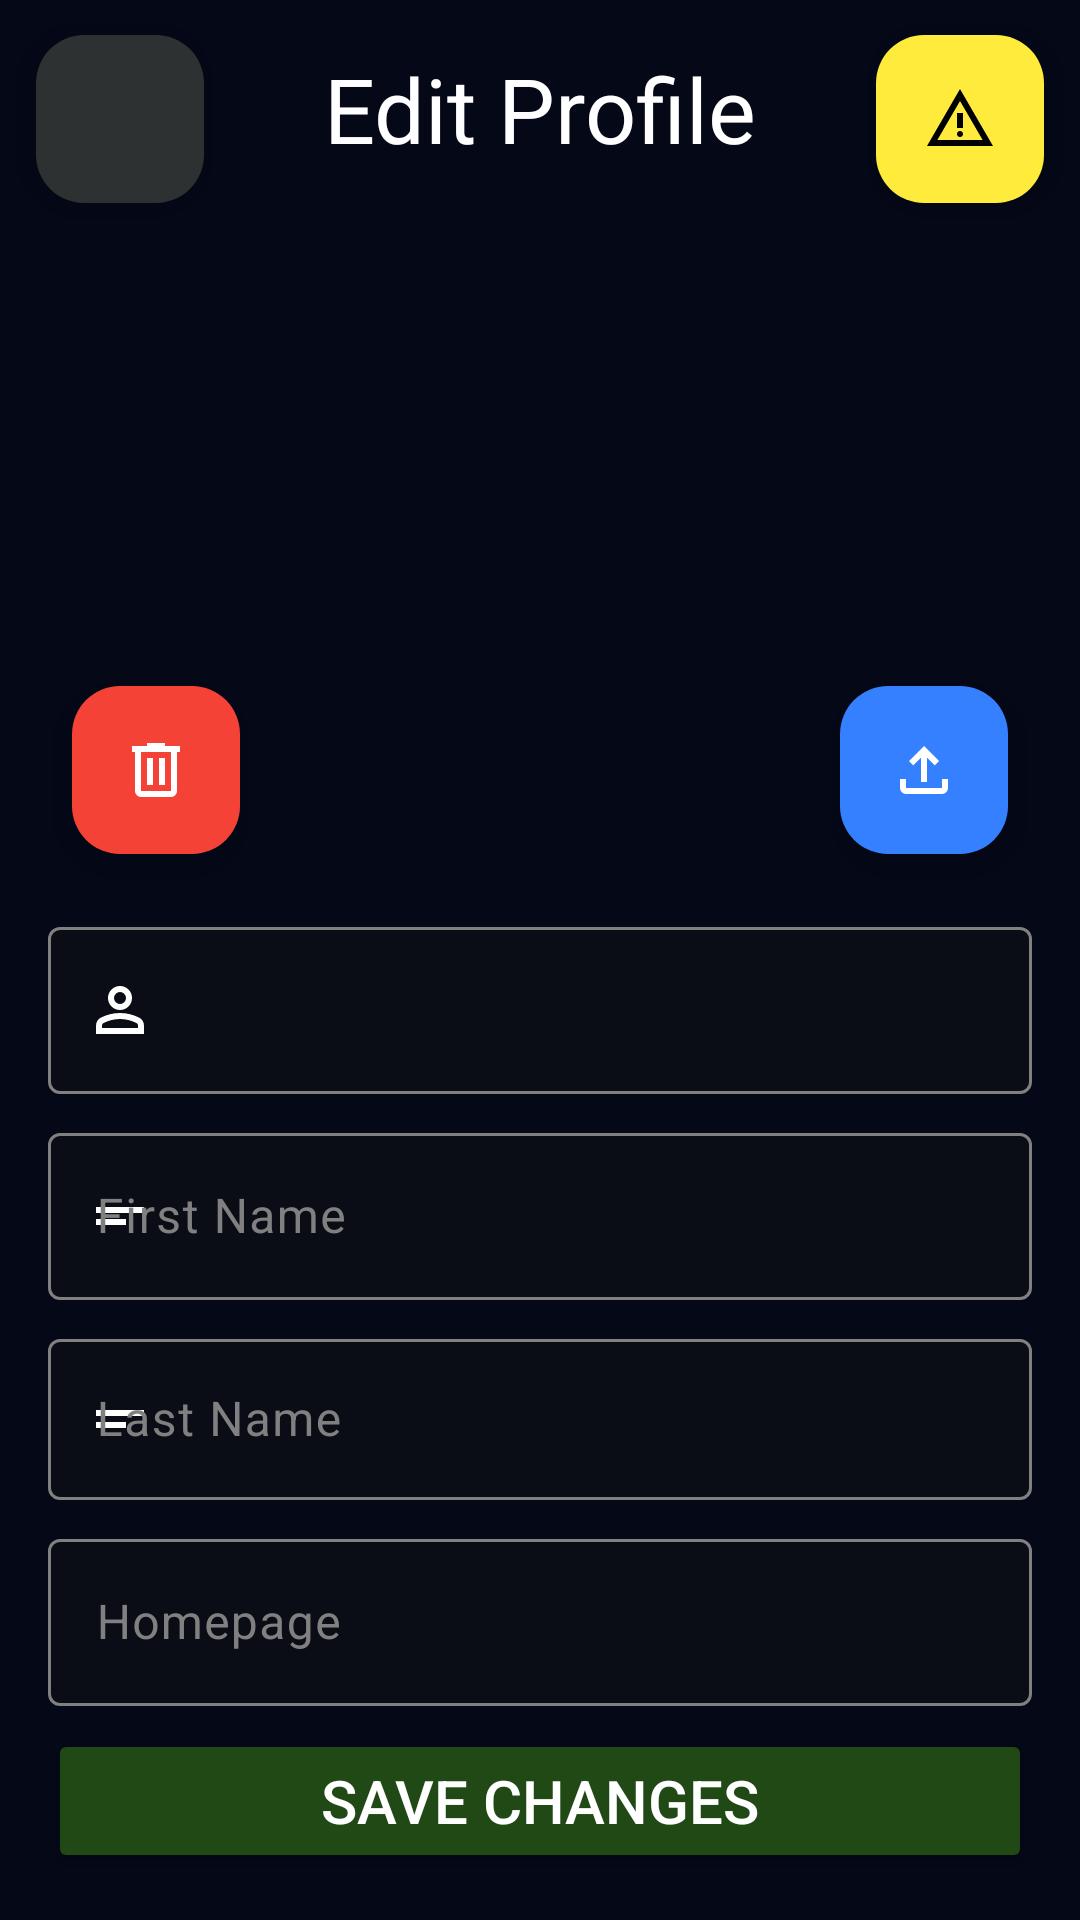

Screen size 1080px x 1920px. Icon name, then its center in pixels as point (x, y):
delete: point (156, 770)
upload: point (924, 770)
warning: point (960, 119)
